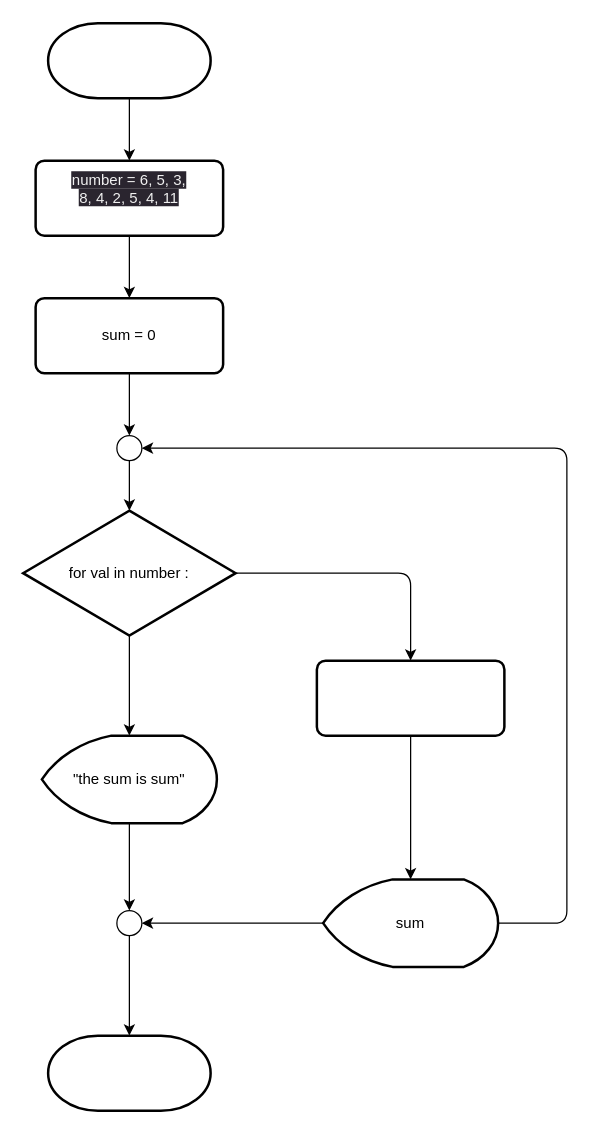
The diagram is 599 pixels wide and 1133 high, and some of its shapes have lost their labels. The centre of each missing label's shape, as x and y in pixels:
end: (x=128, y=1072)
start: (x=128, y=60)
sum += val: (x=410, y=697)
